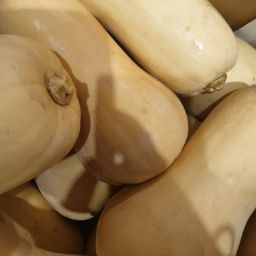Butternut Squash: (1, 1, 243, 198), (1, 28, 201, 212), (2, 120, 256, 256)
